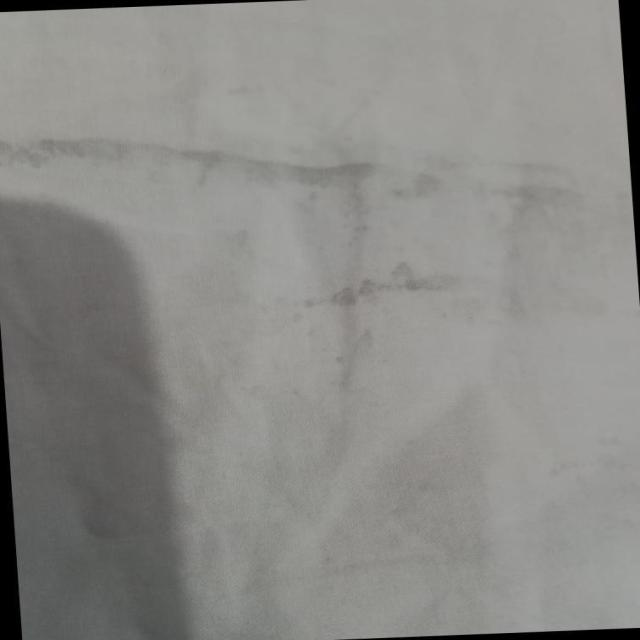stain: (0, 106, 428, 222), (284, 246, 480, 324)
